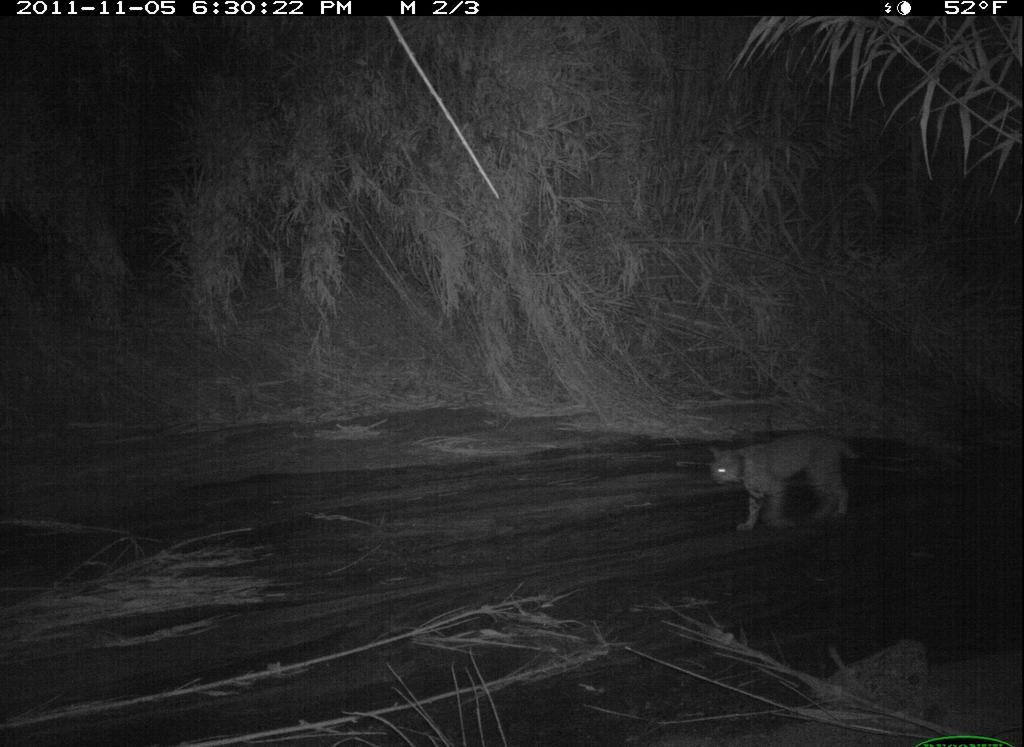bobcat: (692, 422, 873, 550)
